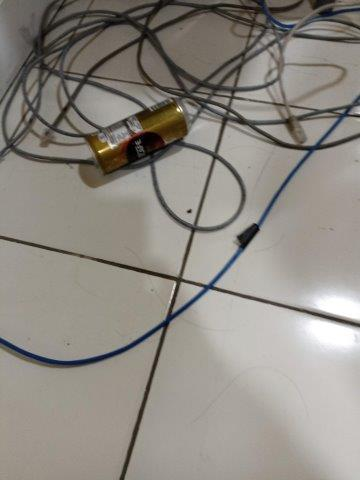kaleng: (85, 97, 191, 175)
